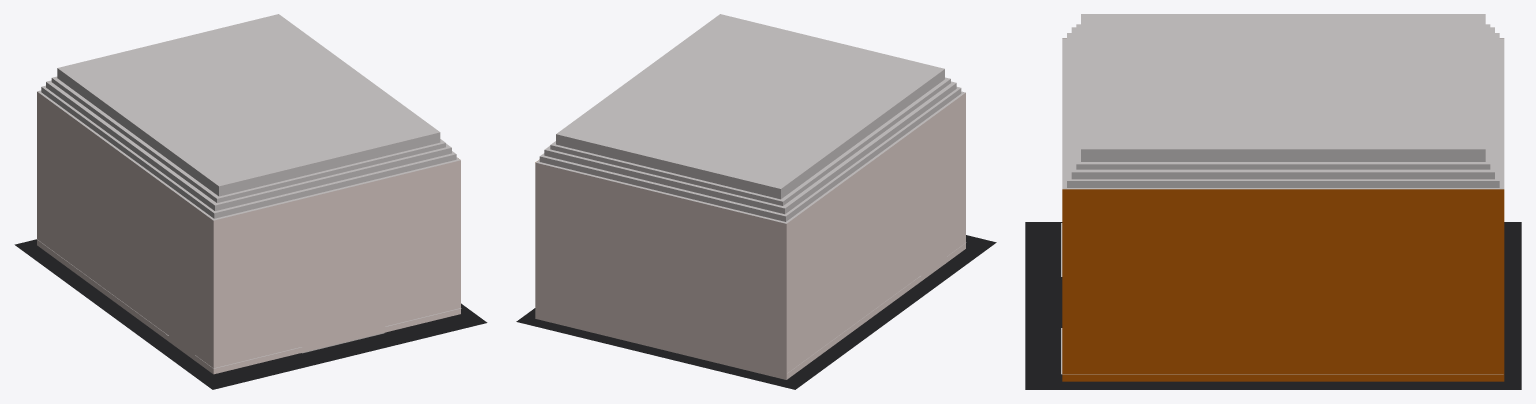
Rendered from LivingRoomV2.fbx.
3 renders of one model, left to right at view 1: azimuth 30°, elevation 25°; view 2: azimuth 150°, elevation 25°; view 3: azimuth 270°, elevation 25°, orthographic. The views are drawn at different scales.
Parts seen in each view (by area): view 1: pPlane7, pPlane5; view 2: pPlane7, pPlane5; view 3: pPlane7, pPlane5.
Part boxes in pixels (x1,y1,x2,y2): pPlane7: (37, 14, 461, 374); pPlane5: (14, 239, 487, 389); pPlane7: (535, 14, 966, 379); pPlane5: (516, 235, 996, 389); pPlane7: (1061, 14, 1504, 381); pPlane5: (1025, 222, 1521, 389).
Size of the model in its own units: 20 by 12.54 by 25.
